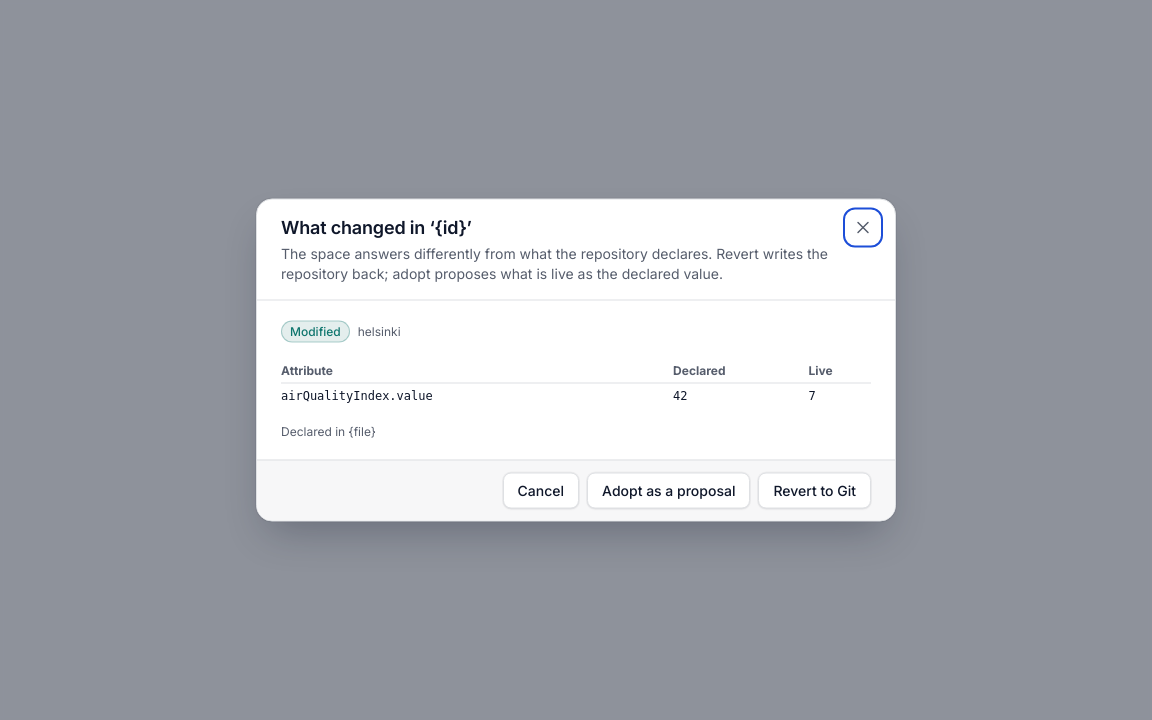
Test: resolving a drifted entity › adopts through the route that proposes the live value, and says a change was opened
Click the button "Adopt as a proposal" at (669, 490), box top-left (587, 472), bottom-right (750, 508)
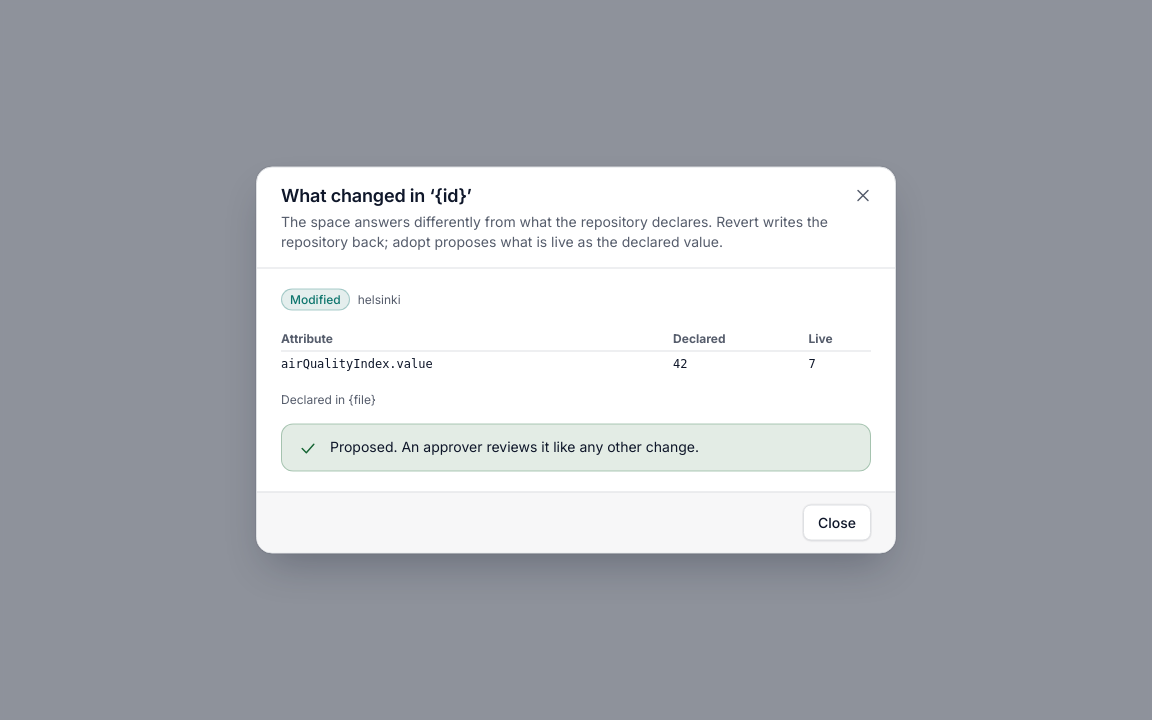
Now the message shows "approver", box top-left (330, 438), bottom-right (699, 454)
